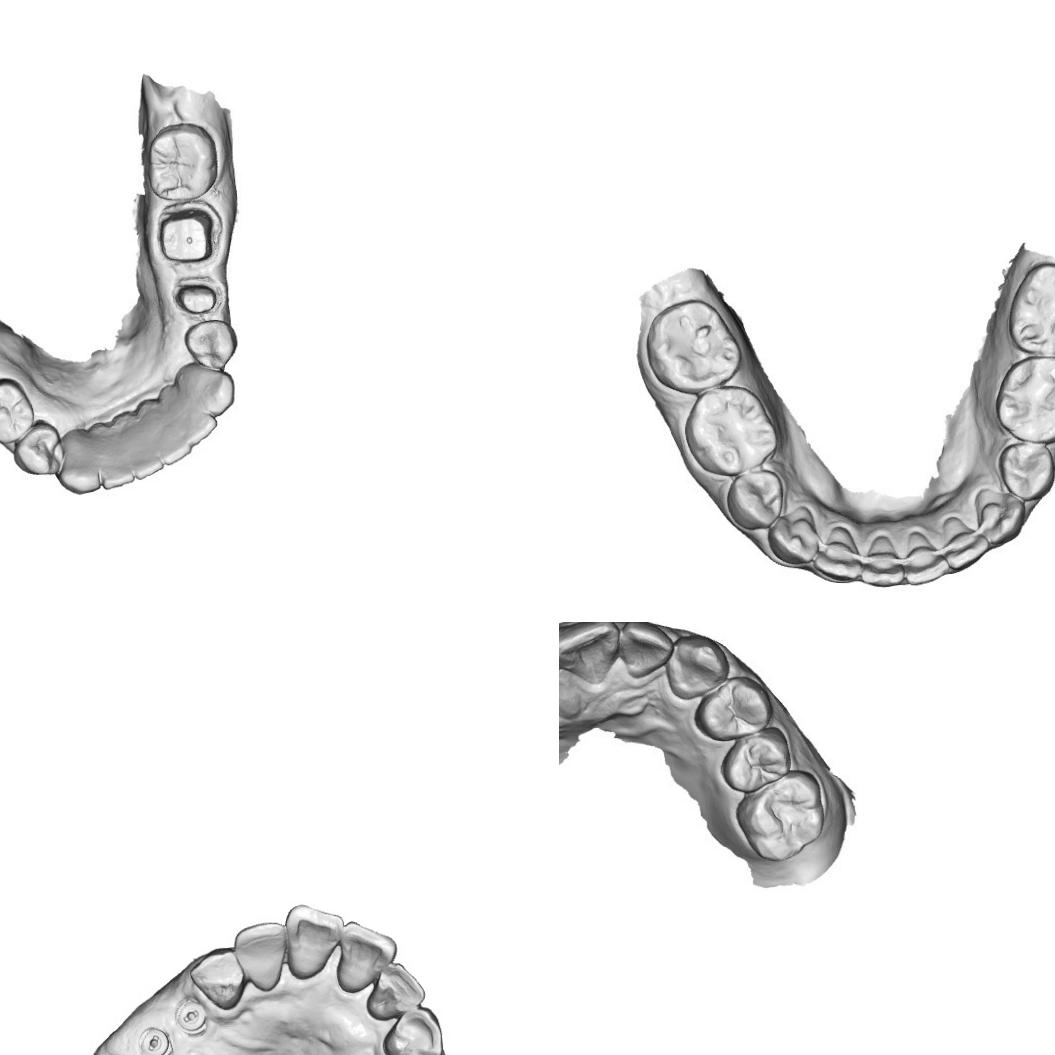canine: (666, 636, 730, 698), (188, 946, 248, 1011), (54, 435, 106, 498), (380, 1004, 444, 1055), (183, 365, 237, 418), (978, 490, 1028, 544), (768, 506, 816, 561)
crown: (156, 199, 220, 269), (170, 278, 224, 317)
implant_minus: (172, 996, 208, 1038), (136, 1024, 174, 1055)
incisor: (284, 902, 345, 981), (336, 920, 398, 996), (230, 919, 288, 992), (559, 622, 621, 689), (363, 960, 427, 1020), (618, 622, 674, 681), (863, 538, 906, 592), (944, 516, 989, 567), (906, 532, 947, 586), (98, 436, 136, 492), (818, 529, 859, 580), (125, 436, 164, 482), (159, 416, 192, 467), (178, 406, 218, 447)
molar: (644, 299, 743, 397), (682, 386, 776, 476), (739, 780, 826, 856), (146, 121, 218, 204), (1001, 355, 1055, 440), (1011, 263, 1055, 349)
premolar: (699, 677, 772, 744), (721, 730, 792, 792), (721, 467, 788, 528), (996, 441, 1055, 504), (12, 418, 67, 478), (182, 316, 239, 372), (0, 375, 35, 446)
